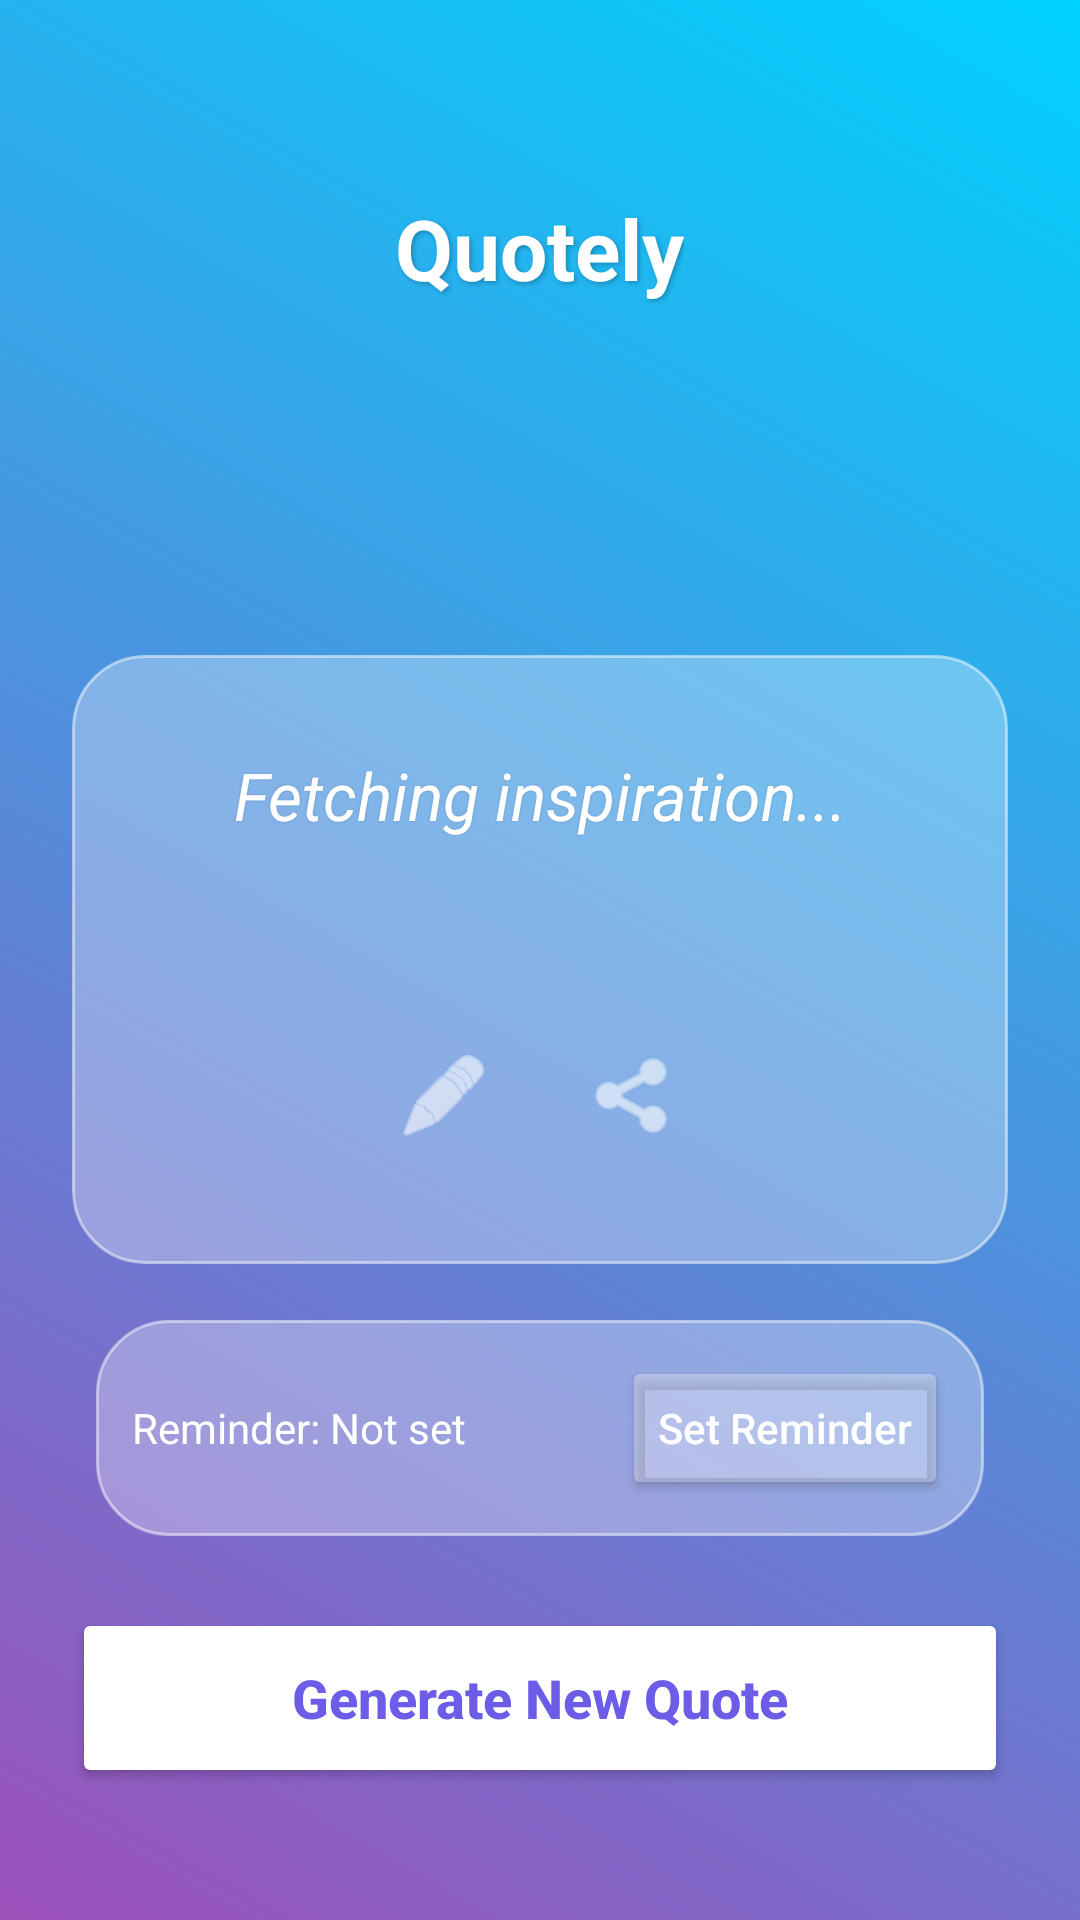

Screen size 1080 × 1920. Icon name, then its box in pixels as (x1, y1, x2, y2):
Share quote: (595, 1058, 667, 1133)
